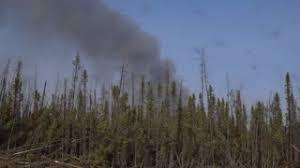yanwu: (0, 1, 183, 113)
